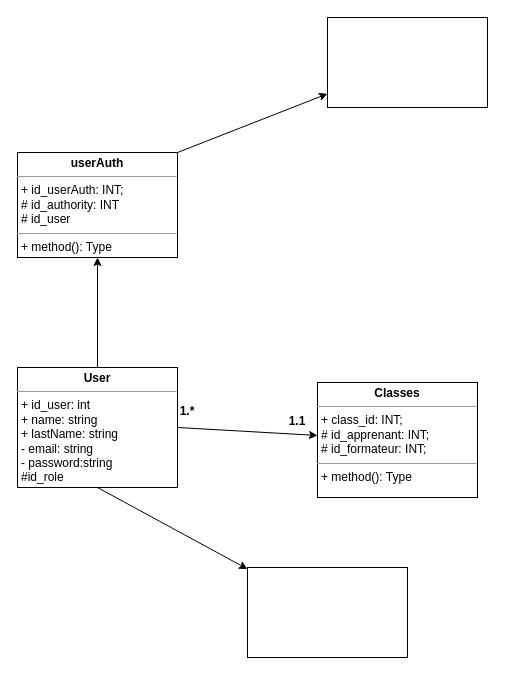
Image size: 505x675. Some labels were removed from this diagram. The box of each missing label's shape, as (x1, y1, x2, y2) in pixels:
Authority + id_authority:INT + authority_type + method(): Type: (326, 16, 488, 108)
role + id_role: INT; + role_type: string + method(): Type: (246, 566, 408, 658)
